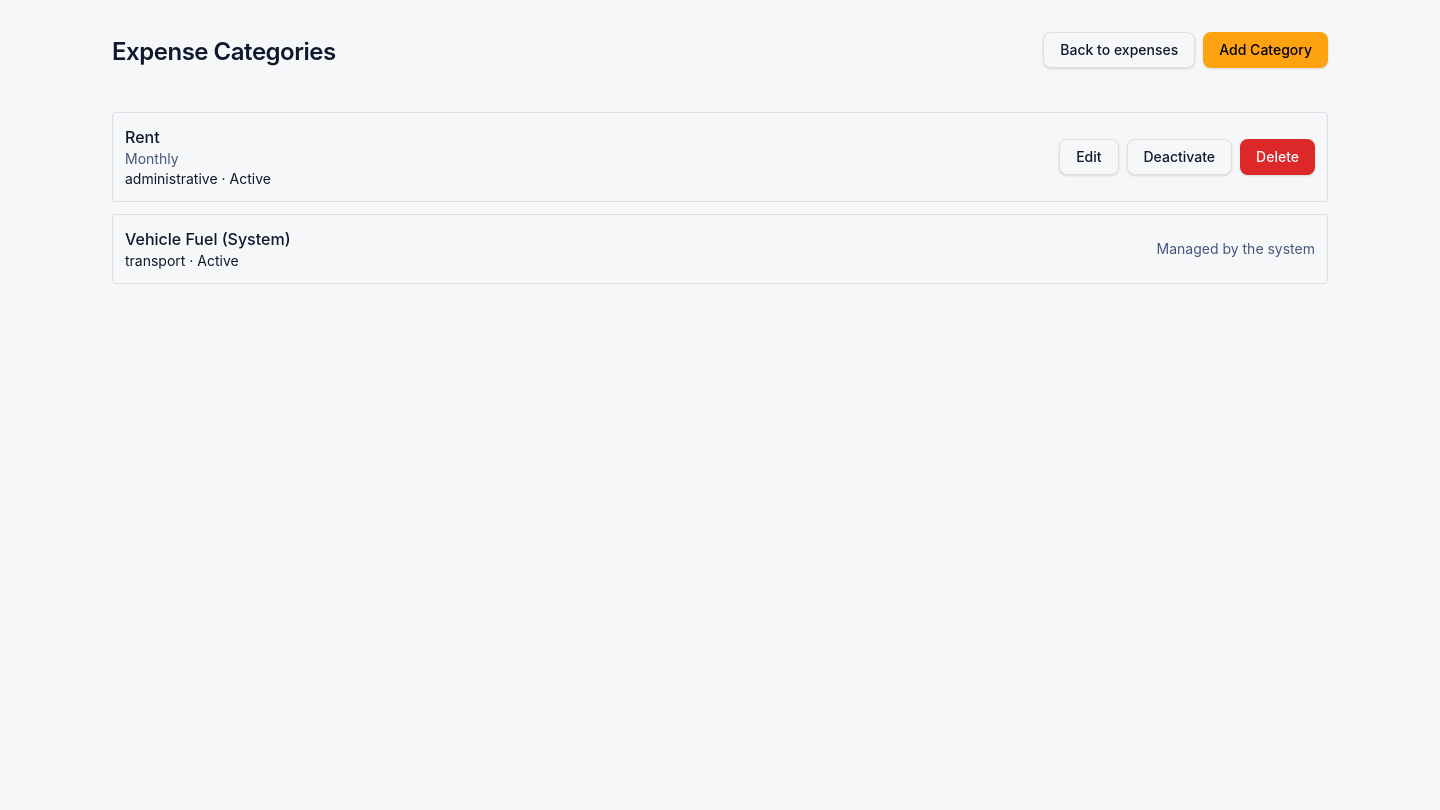
Test: Expense category CRUD › keeps the dialog open with a server deletion error
Step 1. Click the button with aria-label "Delete Rent" → (1278, 157), box [1240,139,1315,175]
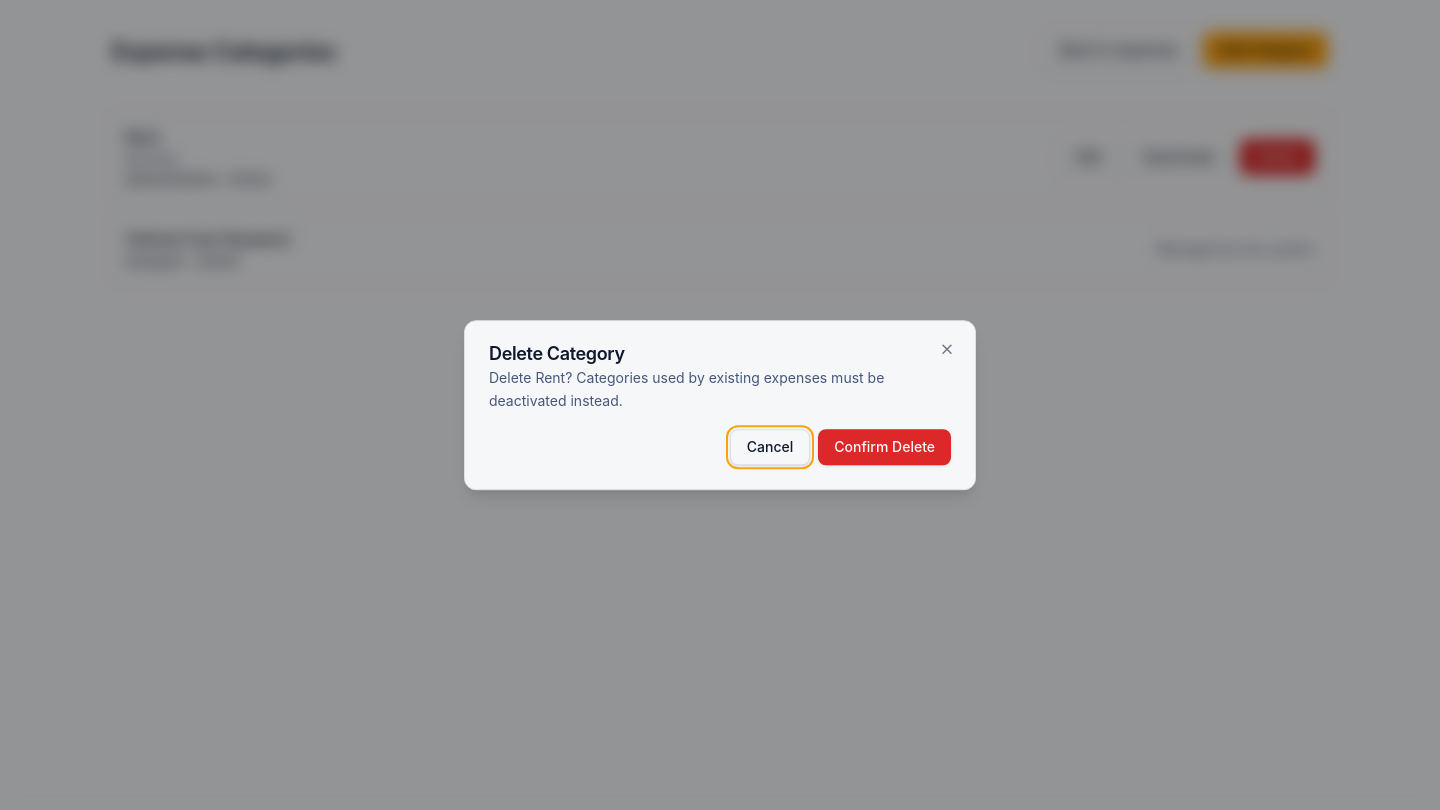
Step 2. Click the button "Confirm Delete" → (885, 447), box [818,429,951,465]
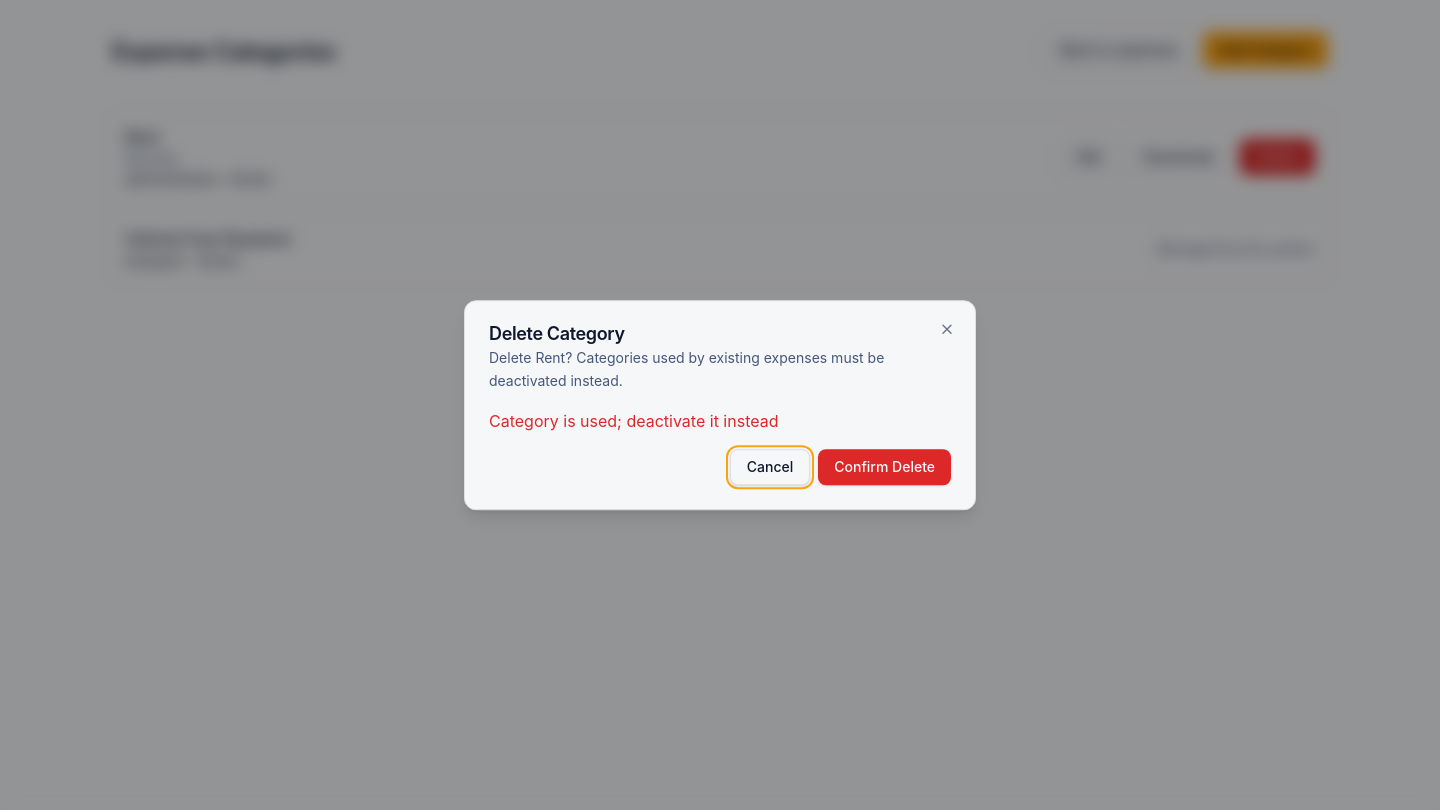
Result: the message shows "deactivate it instead" at [489,411,778,431]
